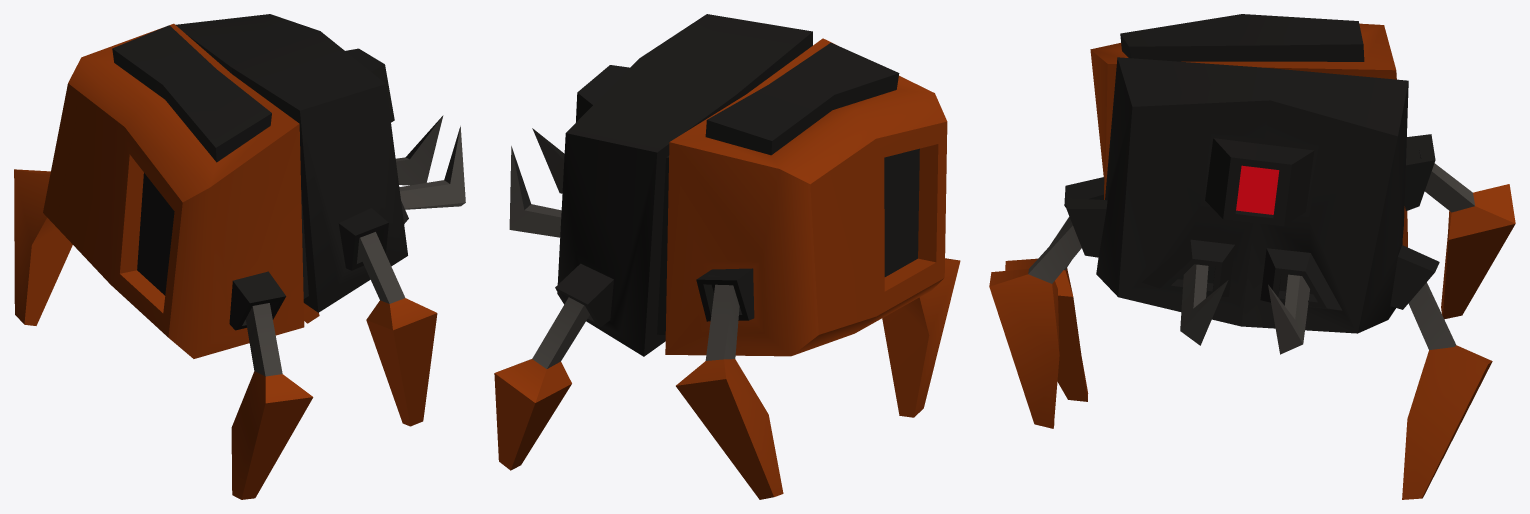
File: SPIDBOT14.obj
The picture shows the model from 3 angles, left to right: view 1: azimuth 30°, elevation 25°; view 2: azimuth 150°, elevation 25°; view 3: azimuth 270°, elevation 25°; orthographic projection. The views are drawn at different scales.
Parts seen in each view (by area): view 1: Cube.001; view 2: Cube.001; view 3: Cube.001.
Part boxes in pixels (<box>): Cube.001: <box>14,14,465,499</box>; Cube.001: <box>494,14,960,499</box>; Cube.001: <box>989,14,1515,499</box>.
Size of what is drawn, in the model's own units: 2.86 by 2.86 by 3.54.
